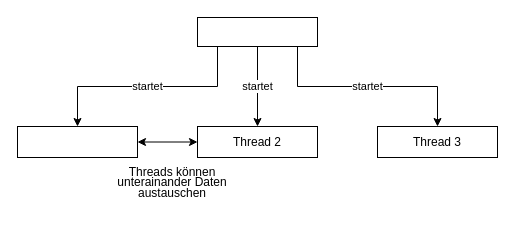
The diagram is 515 pixels wide and 228 high, and some of its shapes have lost their labels. The box of each missing label's shape, as (x1, y1, x2, y2) in pixels:
Haupt-Thread: (196, 16, 318, 46)
Thread 1: (16, 126, 138, 158)
